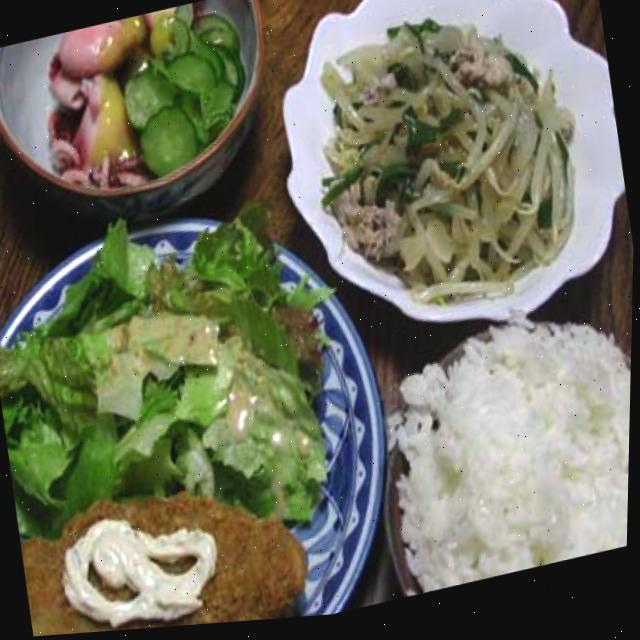炸货点心: (13, 425, 367, 639)
熟制海鲜: (13, 425, 367, 639)
